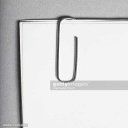Metal: (49, 13, 89, 85)
